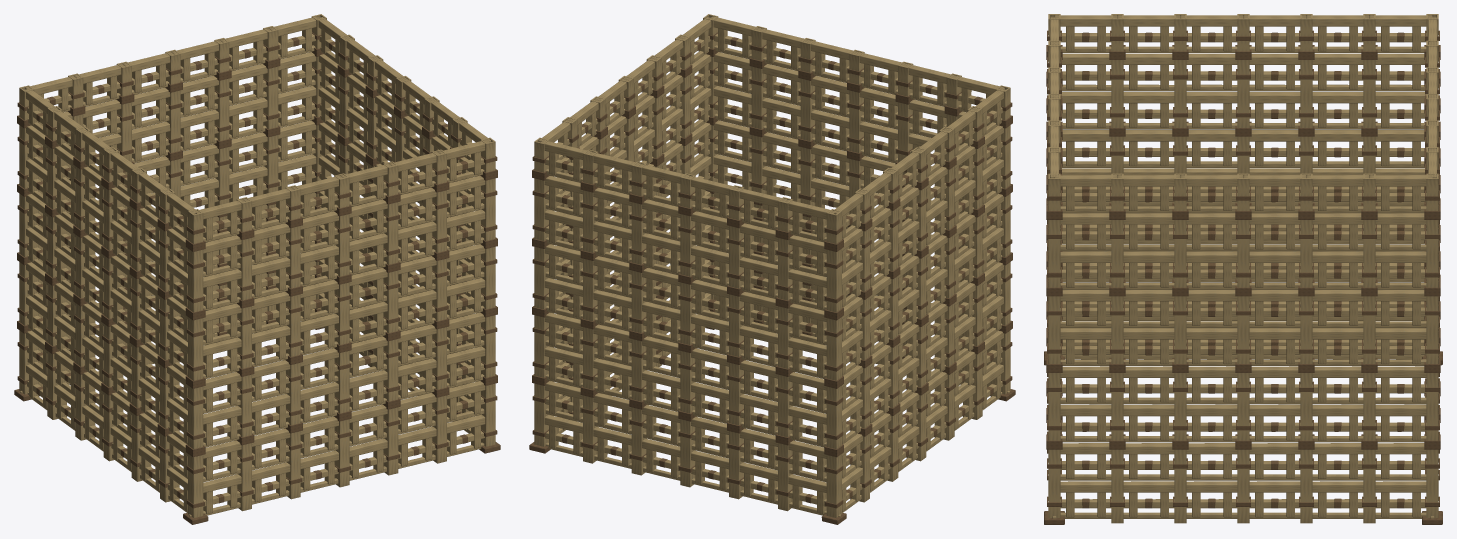
3 renders of one model, left to right at view 1: azimuth 30°, elevation 25°; view 2: azimuth 150°, elevation 25°; view 3: azimuth 270°, elevation 25°, orthographic. The views are drawn at different scales.
Visible parts, largest first — view 1: Tier 0 side 0 post 0, Tier 2 side 0 post 0, Tier 3 side 0 post 0, Tier 1 side 0 post 0, Tier 0 side 0 post 4, Tier 0 side 0 post 3, Tier 0 side 0 post 5, Tier 0 side 0 post 2, Tier 0 side 0 post 1, Tier 3 side 2 post 1, Tier 3 side 0 post 4, Tier 1 side 0 post 4 (+24 smaller); view 2: Tier 0 side 3 post 0, Tier 3 side 3 post 0, Tier 2 side 3 post 0, Tier 1 side 3 post 0, Tier 0 side 2 post 2, Tier 0 side 2 post 3, Tier 0 side 2 post 1, Tier 0 side 2 post 4, Tier 0 side 2 post 5, Tier 3 side 0 post 5, Tier 3 side 2 post 2, Tier 1 side 2 post 2 (+25 smaller); view 3: Tier 0 side 1 post 1, Tier 0 side 1 post 2, Tier 0 side 1 post 3, Tier 0 side 1 post 4, Tier 0 side 1 post 5, Tier 0 side 1 post 0, Tier 0 side 2 post 0, Tier 2 side 1 post 0, Tier 2 side 1 post 1, Tier 2 side 1 post 2, Tier 2 side 1 post 3, Tier 2 side 1 post 4 (+99 smaller).
Boxes of the visible parts, x1,y1,x2,y2 form: Tier 0 side 0 post 0: [188, 454, 203, 517]; Tier 2 side 0 post 0: [188, 317, 203, 380]; Tier 3 side 0 post 0: [188, 248, 203, 312]; Tier 1 side 0 post 0: [188, 385, 203, 449]; Tier 0 side 0 post 4: [383, 407, 398, 475]; Tier 0 side 0 post 3: [334, 419, 349, 487]; Tier 0 side 0 post 5: [432, 395, 446, 463]; Tier 0 side 0 post 2: [286, 431, 300, 499]; Tier 0 side 0 post 1: [237, 443, 251, 511]; Tier 3 side 2 post 1: [263, 66, 278, 129]; Tier 3 side 0 post 4: [383, 202, 398, 264]; Tier 1 side 0 post 4: [383, 339, 398, 401]; Tier 0 side 3 post 0: [826, 454, 841, 517]; Tier 3 side 3 post 0: [826, 248, 841, 312]; Tier 2 side 3 post 0: [826, 317, 841, 380]; Tier 1 side 3 post 0: [826, 385, 841, 449]; Tier 0 side 2 post 2: [631, 407, 646, 475]; Tier 0 side 2 post 3: [680, 419, 695, 487]; Tier 0 side 2 post 1: [583, 395, 597, 463]; Tier 0 side 2 post 4: [729, 431, 743, 499]; Tier 0 side 2 post 5: [778, 443, 792, 511]; Tier 3 side 0 post 5: [751, 66, 766, 129]; Tier 3 side 2 post 2: [631, 202, 646, 264]; Tier 1 side 2 post 2: [631, 339, 646, 401]; Tier 0 side 1 post 1: [1111, 449, 1123, 523]; Tier 0 side 1 post 2: [1174, 449, 1186, 523]; Tier 0 side 1 post 3: [1237, 449, 1249, 523]; Tier 0 side 1 post 4: [1300, 449, 1312, 523]; Tier 0 side 1 post 5: [1363, 449, 1375, 523]; Tier 0 side 1 post 0: [1048, 449, 1060, 517]; Tier 0 side 2 post 0: [1426, 449, 1438, 517]; Tier 2 side 1 post 0: [1048, 296, 1060, 363]; Tier 2 side 1 post 1: [1111, 296, 1123, 363]; Tier 2 side 1 post 2: [1174, 296, 1186, 363]; Tier 2 side 1 post 3: [1237, 296, 1249, 363]; Tier 2 side 1 post 4: [1300, 296, 1312, 363].
Size of the model in its own units: 2.85 by 2.72 by 2.85.
2 materials, 2 textured.
